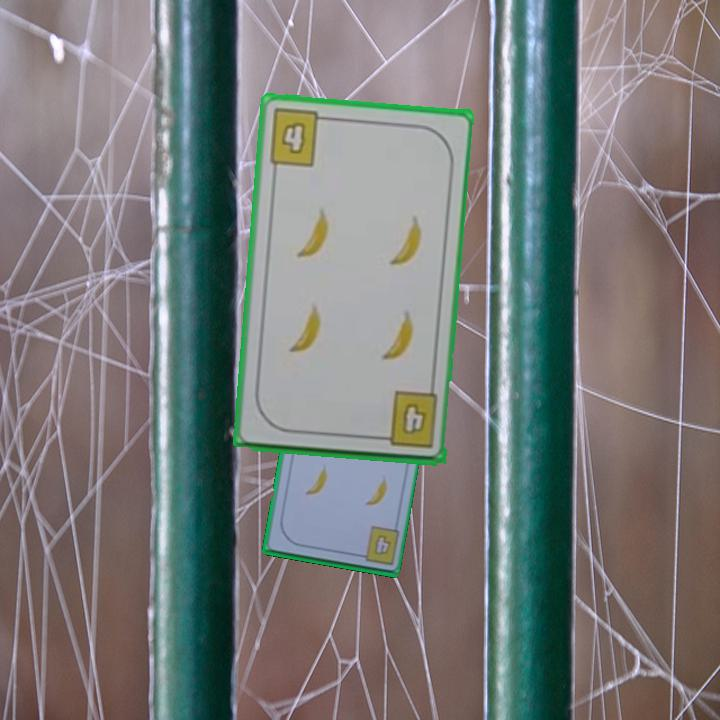4b: (265, 105, 333, 170), (373, 388, 440, 451), (370, 530, 394, 558)
